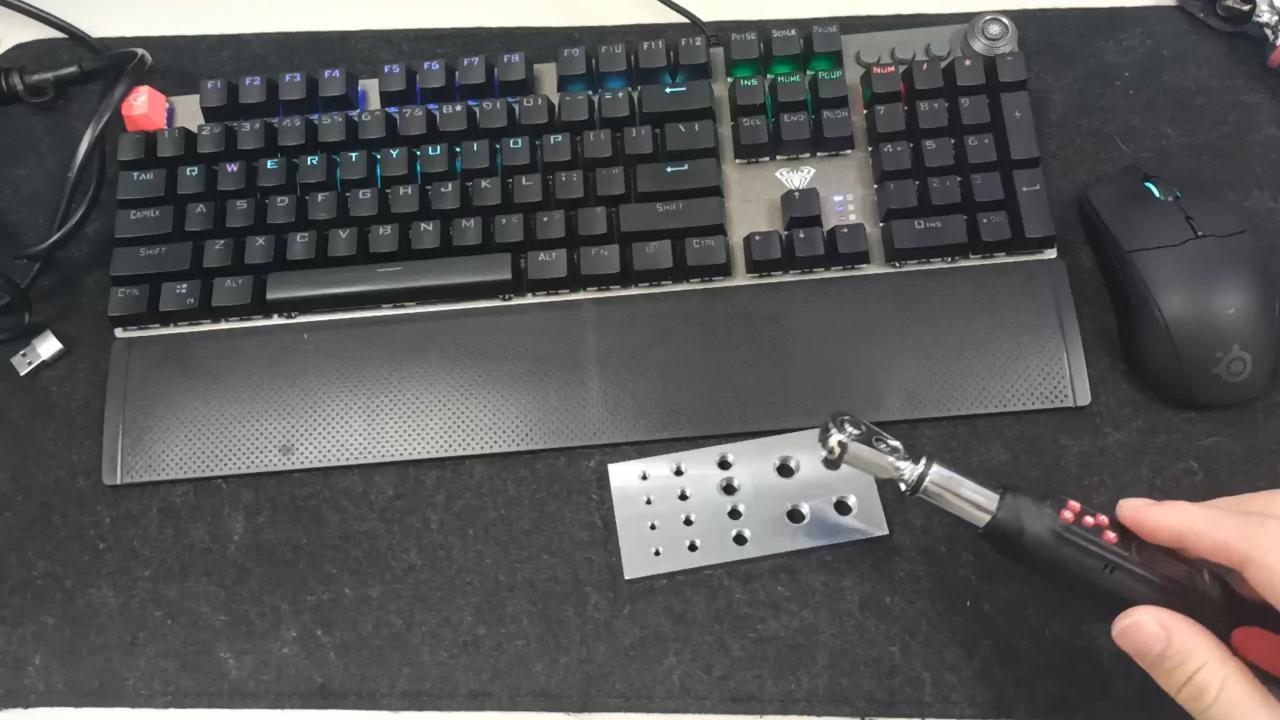Tool: (821, 410, 921, 494)
